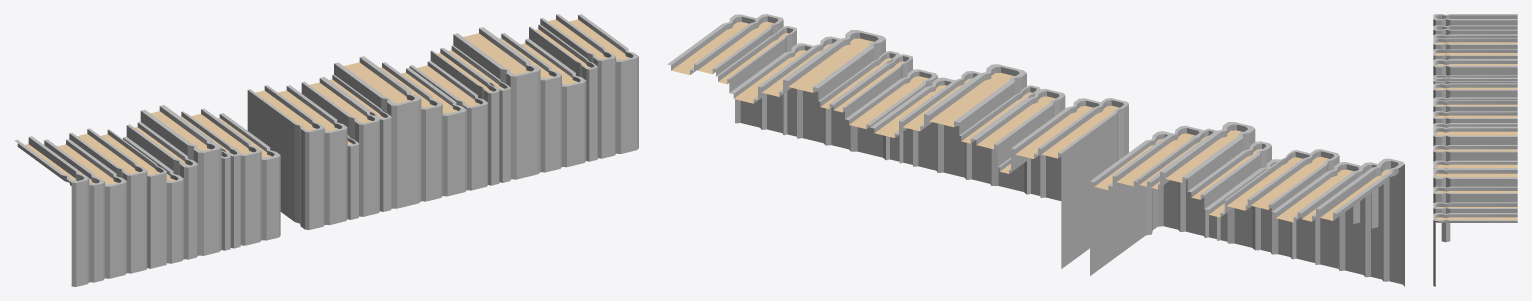
Rendered from prop_biblioteca_libros_hueco001.fbx.
The picture shows the model from 3 angles, left to right: view 1: azimuth 30°, elevation 25°; view 2: azimuth 150°, elevation 25°; view 3: azimuth 270°, elevation 25°; orthographic projection. The views are drawn at different scales.
Parts seen in each view (by area): view 1: prop_biblioteca_libros_hueco001; view 2: prop_biblioteca_libros_hueco001; view 3: prop_biblioteca_libros_hueco001.
Part boxes in pixels (left/top/right/bottom): prop_biblioteca_libros_hueco001: left=14, top=14, right=638, bottom=286; prop_biblioteca_libros_hueco001: left=667, top=14, right=1404, bottom=286; prop_biblioteca_libros_hueco001: left=1433, top=14, right=1517, bottom=286.
Size of the model in its own units: 200 by 35.05 by 36.03.
